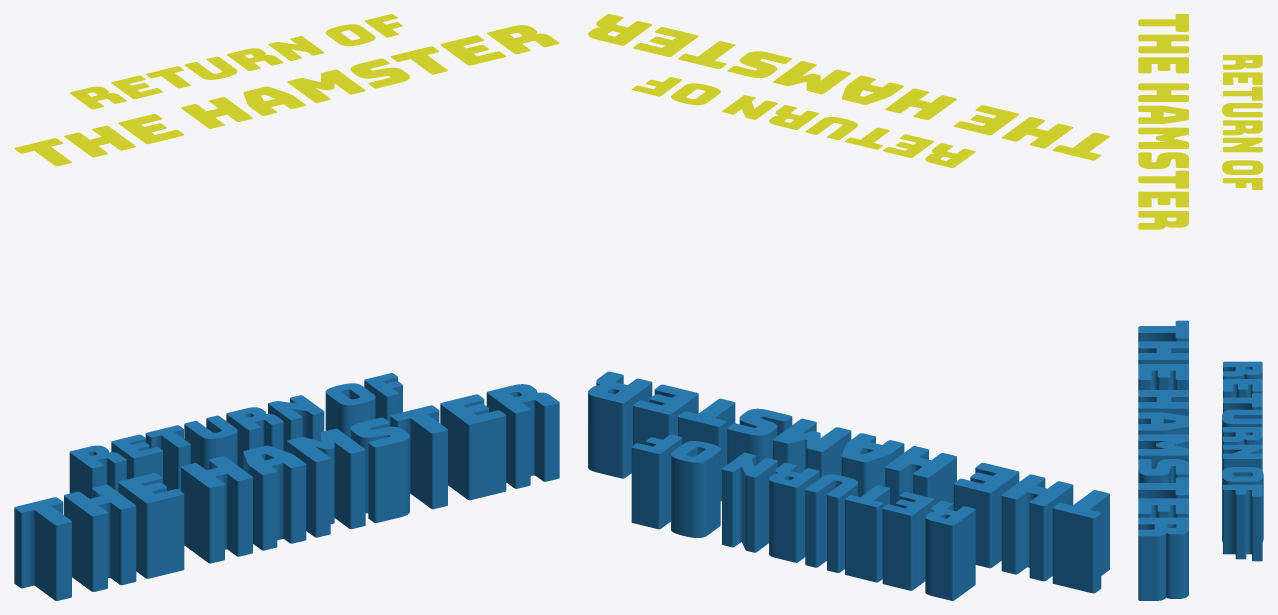
The model's file is return_hamster_title.fbx.
3 renders of one model, left to right at view 1: azimuth 30°, elevation 25°; view 2: azimuth 150°, elevation 25°; view 3: azimuth 270°, elevation 25°, orthographic. The views are drawn at different scales.
Visible parts, largest first — view 1: title body, title face; view 2: title body, title face; view 3: title body, title face.
Boxes of the visible parts, left/top/right/bottom form: title body: left=14, top=373, right=559, bottom=600; title face: left=14, top=14, right=559, bottom=166; title body: left=588, top=371, right=1109, bottom=600; title face: left=588, top=14, right=1109, bottom=167; title body: left=1138, top=320, right=1263, bottom=600; title face: left=1138, top=14, right=1263, bottom=229.
Size of the model in its own units: 28.66 by 23 by 7.02.
